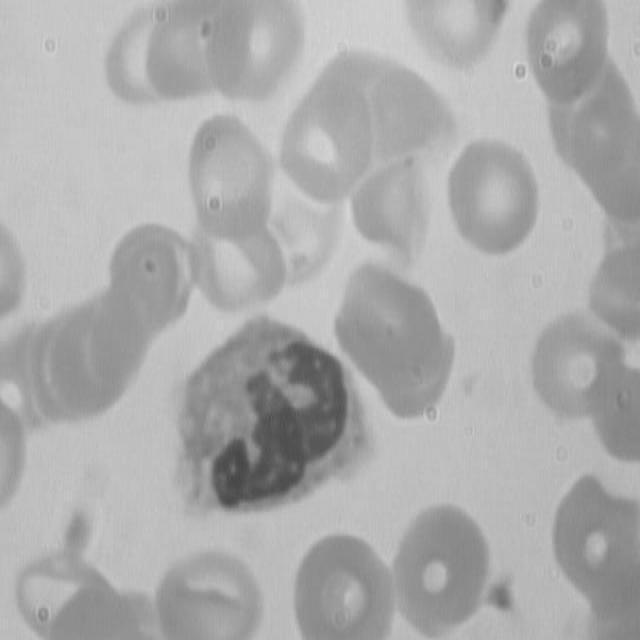Platelets: (483, 570, 518, 622)
RBC: (332, 258, 463, 426), (386, 496, 497, 639), (442, 137, 544, 268), (179, 109, 278, 243), (275, 80, 374, 213), (12, 546, 148, 638), (288, 528, 399, 639), (154, 537, 268, 639), (210, 0, 308, 113), (141, 0, 239, 113), (106, 227, 204, 340), (530, 309, 625, 423), (525, 0, 613, 115)
WBC: (165, 310, 396, 534)
